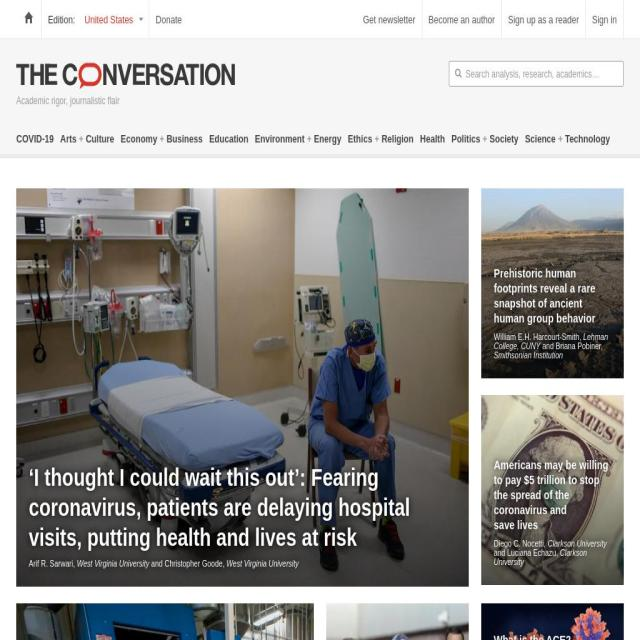button: (16, 188, 469, 587), (481, 188, 624, 378), (481, 395, 624, 585), (16, 602, 314, 640), (16, 57, 235, 90), (326, 602, 469, 640), (481, 602, 624, 640), (501, 0, 585, 38), (421, 0, 501, 38), (74, 0, 149, 38), (254, 128, 342, 158), (524, 128, 610, 158), (356, 0, 422, 38), (121, 128, 203, 158), (451, 128, 519, 158), (348, 128, 413, 158), (60, 128, 114, 158), (149, 0, 188, 38), (585, 0, 623, 38), (209, 128, 249, 158), (16, 128, 54, 158), (420, 128, 445, 158)
field: (448, 61, 624, 87)
heading: (29, 462, 410, 551), (494, 458, 608, 532), (494, 266, 596, 325), (493, 631, 611, 640)
image: (16, 188, 469, 587), (481, 188, 624, 378), (481, 395, 624, 585), (16, 602, 314, 640), (16, 57, 235, 90), (326, 602, 469, 640), (481, 602, 624, 640)
link: (494, 332, 579, 342), (164, 558, 223, 568), (494, 538, 544, 548), (507, 548, 557, 558), (556, 341, 601, 351), (29, 558, 73, 568)
text: (16, 90, 204, 108), (494, 332, 608, 351), (494, 548, 587, 566), (40, 0, 75, 38), (77, 558, 150, 568), (227, 558, 300, 568), (494, 350, 563, 360), (84, 13, 134, 26), (254, 133, 307, 145), (548, 538, 608, 548), (562, 133, 610, 145), (121, 133, 160, 145), (164, 133, 202, 145), (378, 133, 414, 145), (524, 133, 558, 145), (451, 133, 483, 145), (487, 133, 519, 145), (84, 133, 115, 145), (311, 133, 341, 145), (348, 133, 374, 145), (60, 133, 79, 145), (540, 341, 556, 351), (149, 558, 164, 568), (494, 548, 507, 558), (78, 133, 84, 145), (159, 133, 165, 145), (306, 133, 312, 145), (374, 133, 380, 145), (483, 133, 488, 145), (72, 558, 77, 568), (222, 558, 227, 568), (558, 133, 562, 145), (579, 332, 583, 342), (544, 538, 548, 548), (556, 548, 560, 558), (601, 341, 603, 351)
